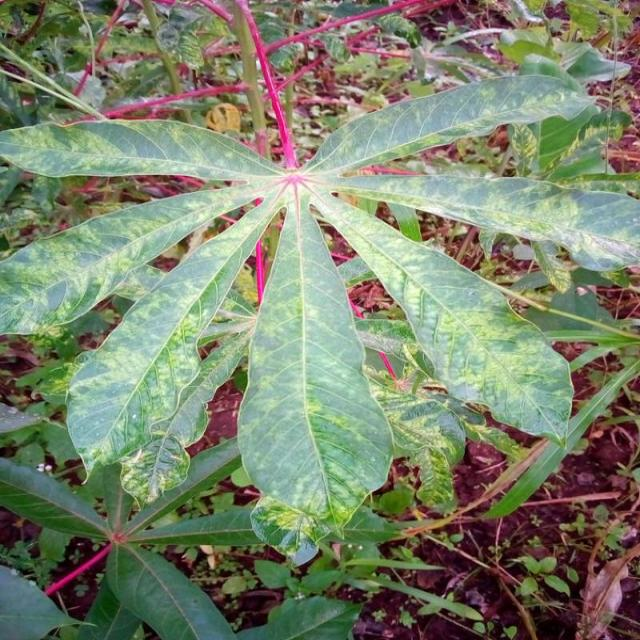cassava leaf: (0, 6, 638, 564), (236, 186, 394, 554)
